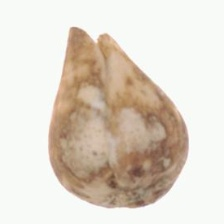L1: (59, 25, 119, 80), (97, 189, 163, 209)
L2: (47, 26, 190, 209)
